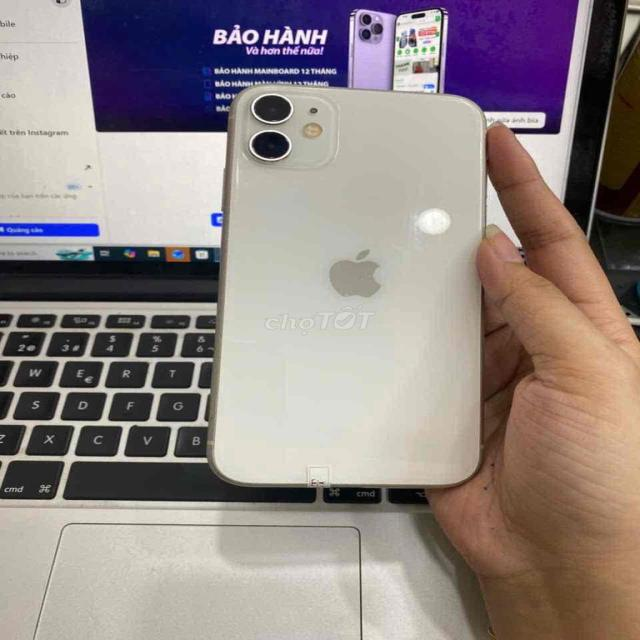gen_11: (213, 68, 512, 501)
